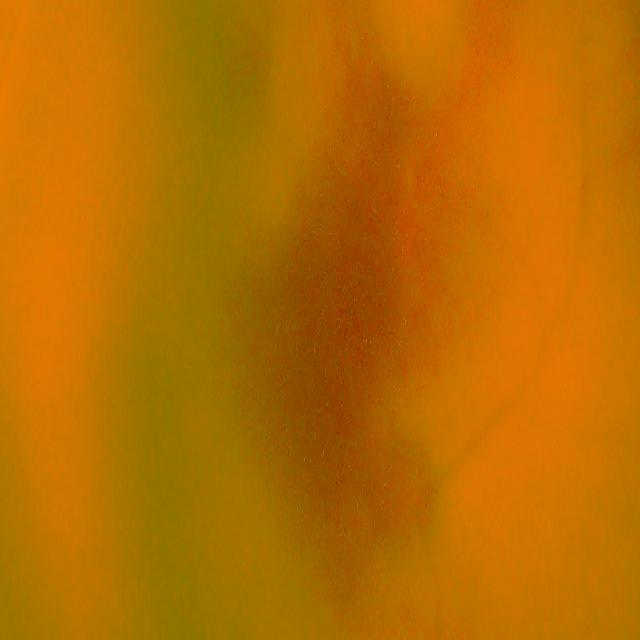optic-nerve: (356, 409, 466, 585)
